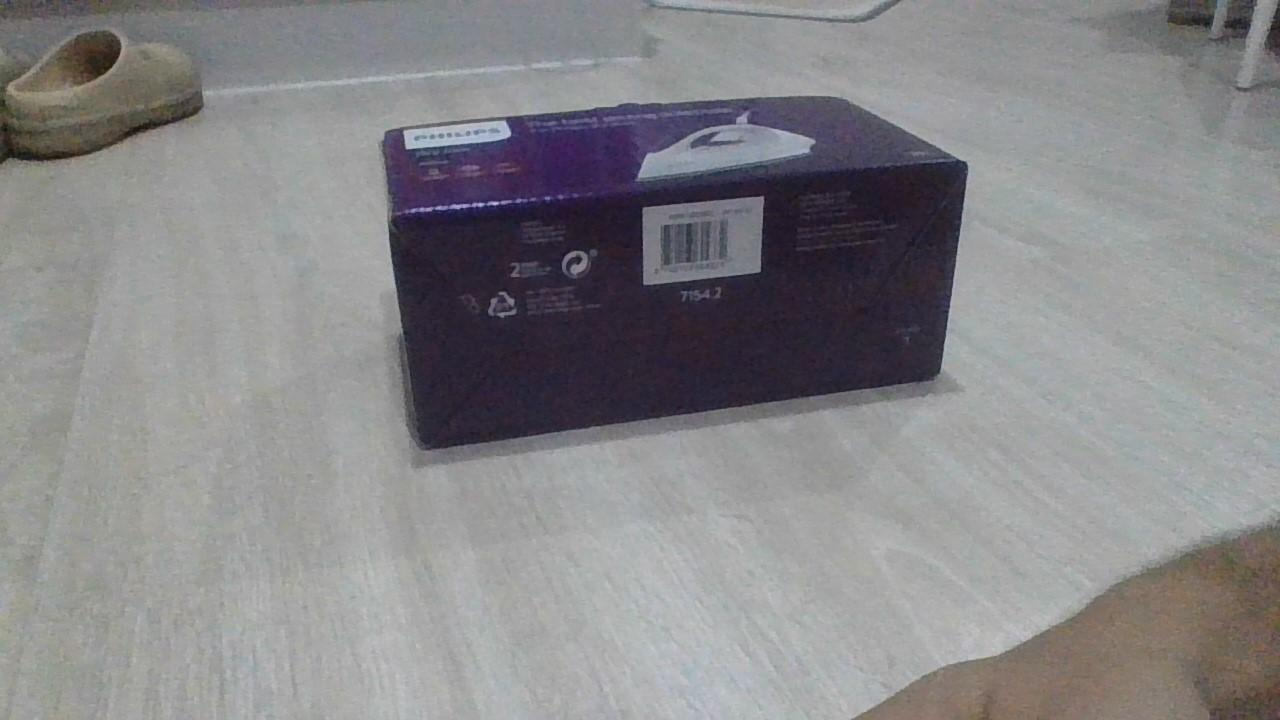IRON: (376, 90, 971, 453)
